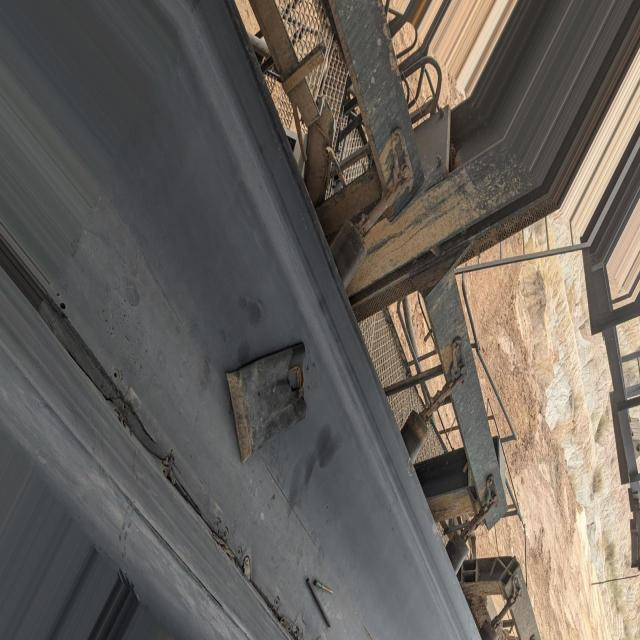Other Objects: (228, 339, 309, 465), (301, 570, 339, 640)
Roller: (329, 224, 365, 289), (444, 532, 474, 575), (403, 410, 431, 453), (477, 620, 502, 639)
Tear: (32, 285, 311, 640)
